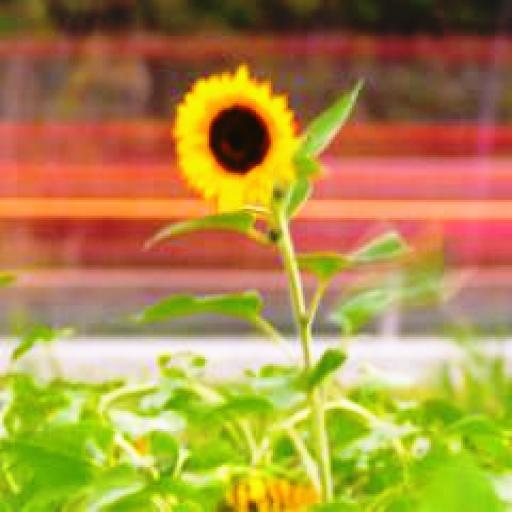sunflower: (175, 67, 299, 211)
